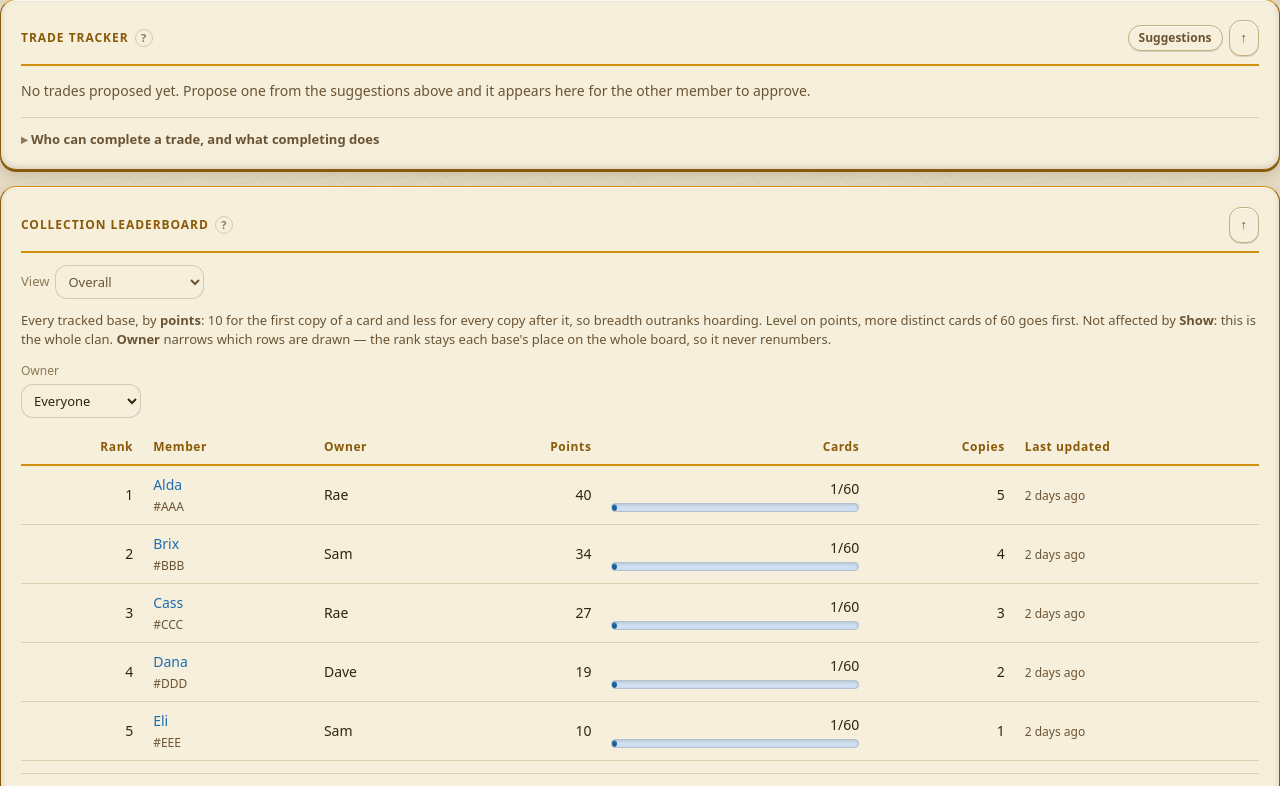
Test: the leaderboard’s owner filter and staleness column › finds both the base no account owns and the unlinked-label base under "No owner set"
The image size is (1280, 786).
(page scrolled)
Select "No owner set" in the dropdown labelled "Owner" at (81, 401), box [21,384,141,418]
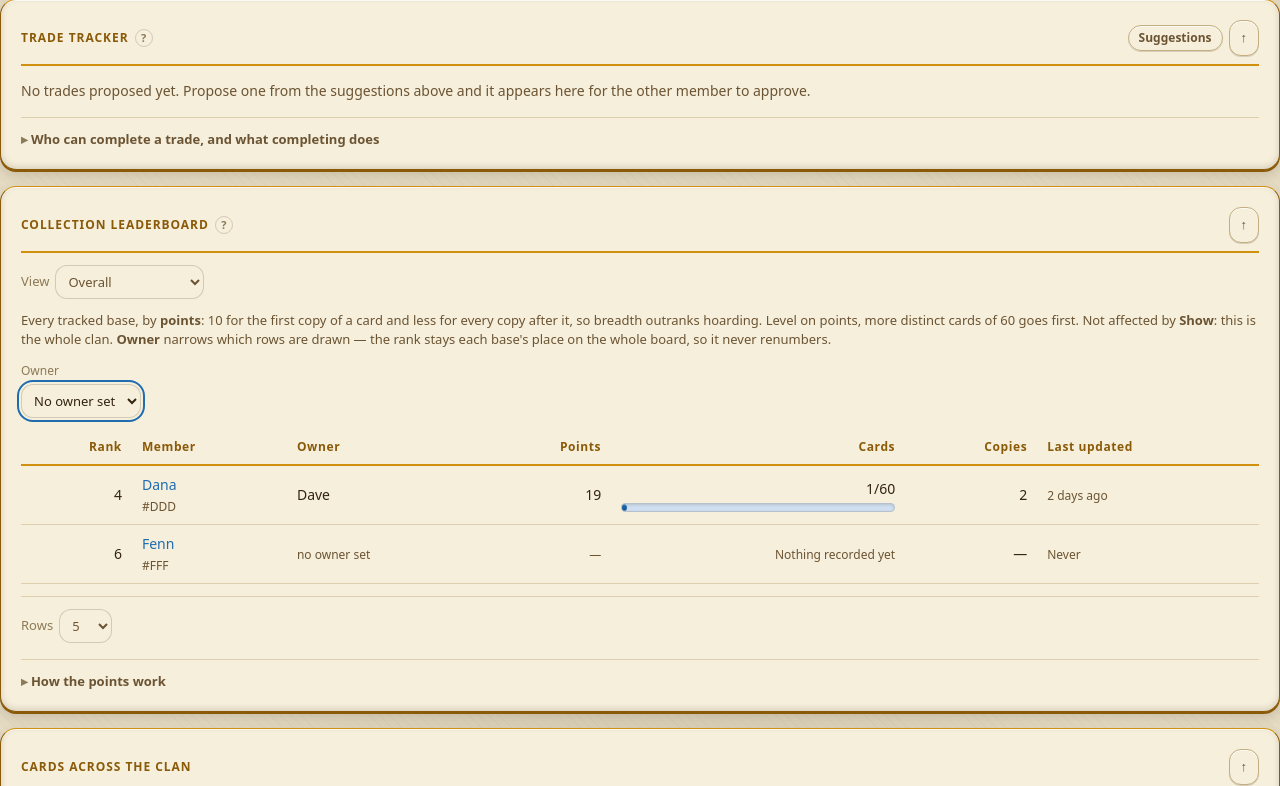
Expected: the text "Dana" is shown, [142,475,176,494]
Result: the text "Fenn" is shown at [142,534,174,553]
